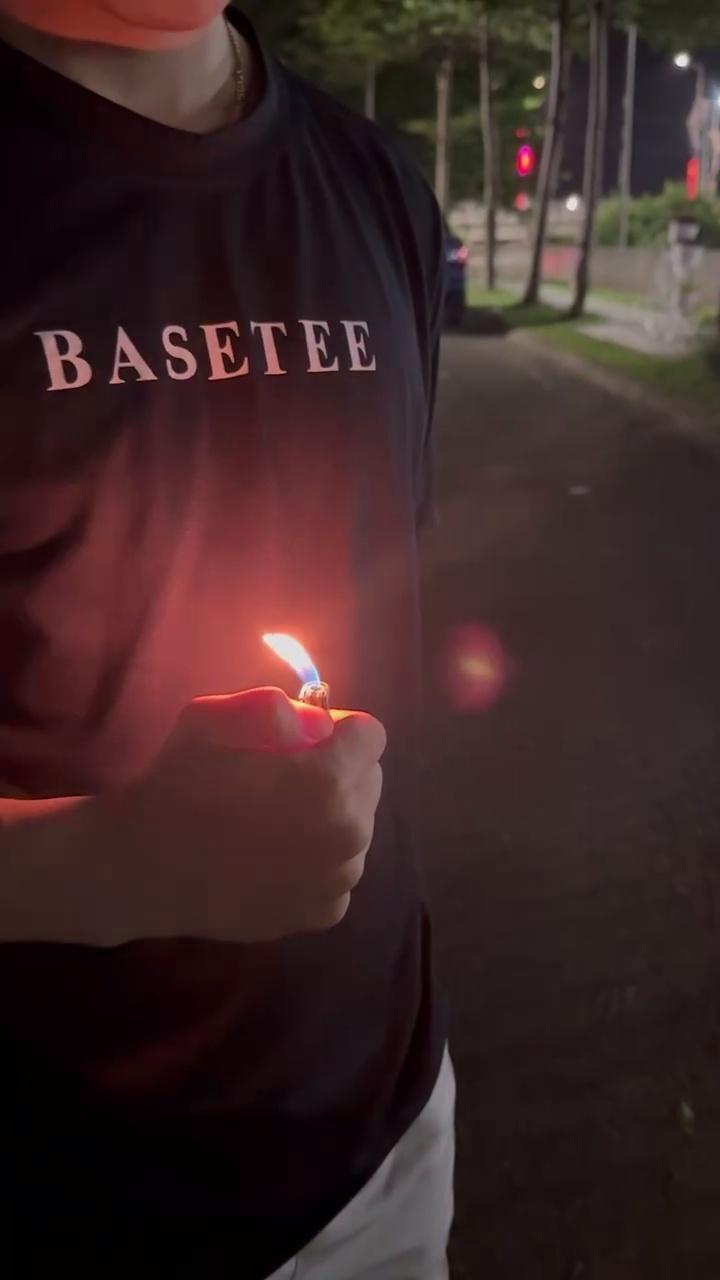Fire: (250, 615, 350, 715)
